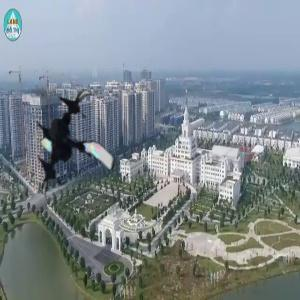drone: (15, 90, 127, 202)
